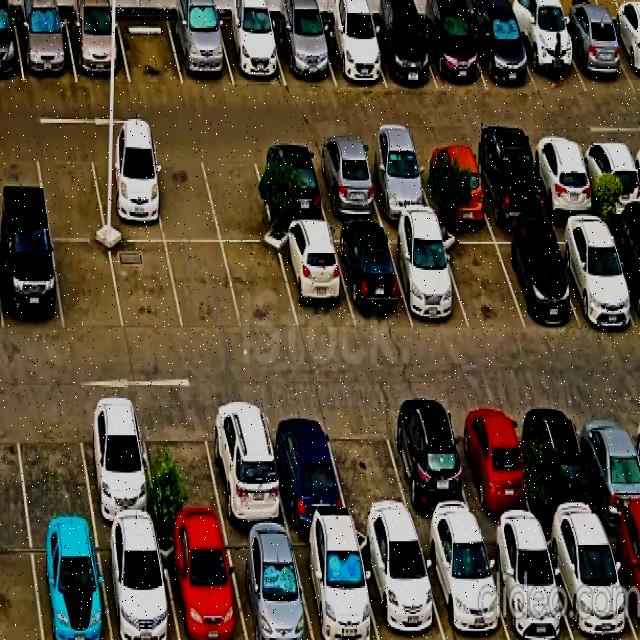empty: (324, 407, 414, 528), (139, 403, 225, 529), (14, 403, 94, 528), (439, 230, 525, 329), (200, 146, 275, 242), (148, 147, 220, 241), (166, 243, 242, 331), (110, 242, 183, 333), (35, 146, 106, 239), (223, 244, 298, 330), (53, 241, 124, 331), (117, 16, 183, 85)
occupied: (383, 404, 479, 529), (448, 403, 538, 528), (203, 401, 288, 528), (543, 526, 636, 640), (264, 405, 350, 527), (480, 529, 573, 640), (77, 402, 159, 527), (521, 402, 603, 527), (418, 530, 509, 640), (224, 531, 314, 640), (356, 530, 445, 640), (290, 530, 379, 640), (159, 531, 246, 640), (97, 529, 179, 640), (550, 223, 638, 325), (30, 530, 111, 640), (492, 230, 579, 327), (385, 229, 469, 328), (573, 402, 640, 525), (277, 228, 355, 331), (332, 228, 412, 327), (90, 147, 165, 241), (469, 144, 547, 223), (0, 235, 63, 332), (253, 146, 328, 225), (415, 145, 490, 221), (360, 145, 434, 221), (310, 146, 383, 223), (557, 20, 635, 92), (512, 20, 587, 94), (527, 142, 599, 218), (467, 17, 537, 92), (419, 17, 487, 91), (368, 20, 437, 89), (578, 141, 640, 216), (218, 18, 286, 86), (168, 17, 234, 86), (318, 22, 386, 87), (65, 17, 130, 83), (604, 524, 640, 640), (15, 17, 77, 83), (272, 22, 335, 86), (605, 223, 640, 329), (607, 21, 640, 92)
